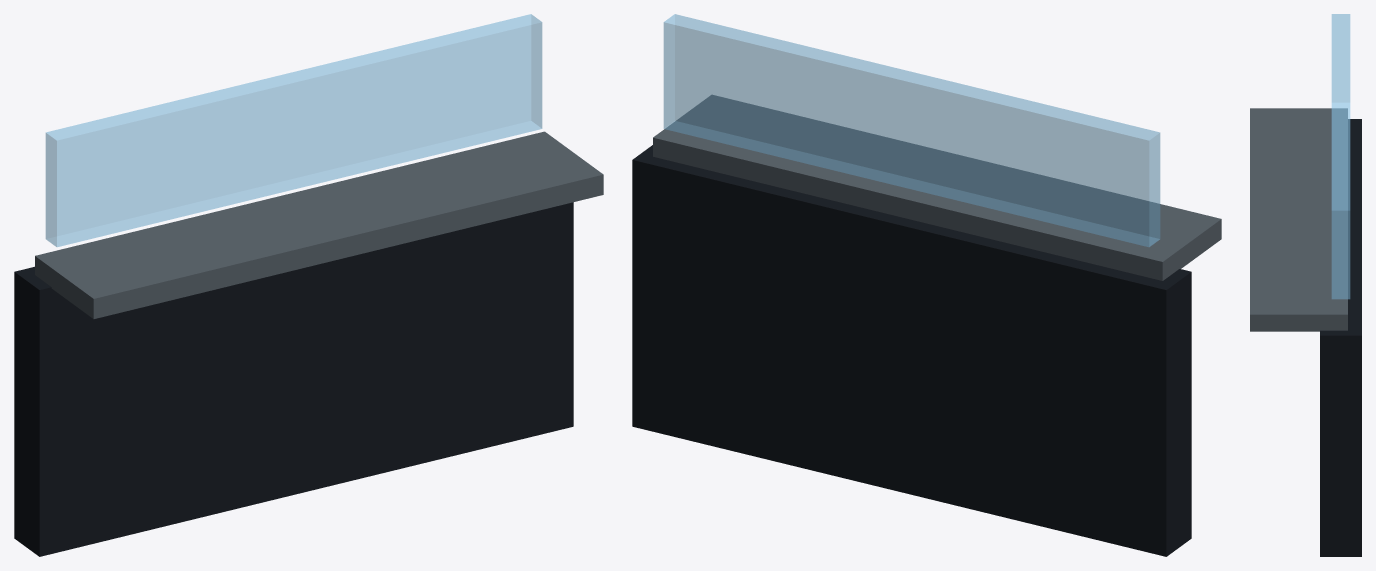
Rendered from window.service_slot_narrow.glb.
The picture shows the model from 3 angles, left to right: view 1: azimuth 30°, elevation 25°; view 2: azimuth 150°, elevation 25°; view 3: azimuth 270°, elevation 25°; orthographic projection. The views are drawn at different scales.
Visible parts, largest first — view 1: lower_band, slot_glass, slot_tray; view 2: lower_band, slot_glass, slot_tray; view 3: slot_tray, lower_band, slot_glass.
Boxes of the visible parts, bbox=[...] form: lower_band: bbox=[14, 202, 573, 556]; slot_glass: bbox=[45, 14, 542, 246]; slot_tray: bbox=[35, 131, 603, 318]; lower_band: bbox=[632, 145, 1191, 556]; slot_glass: bbox=[663, 14, 1160, 246]; slot_tray: bbox=[653, 95, 1221, 280]; slot_tray: bbox=[1250, 108, 1347, 331]; lower_band: bbox=[1320, 119, 1361, 556]; slot_glass: bbox=[1331, 14, 1350, 299].
Size of the model in its own units: 2.2 by 1.59 by 0.48.
